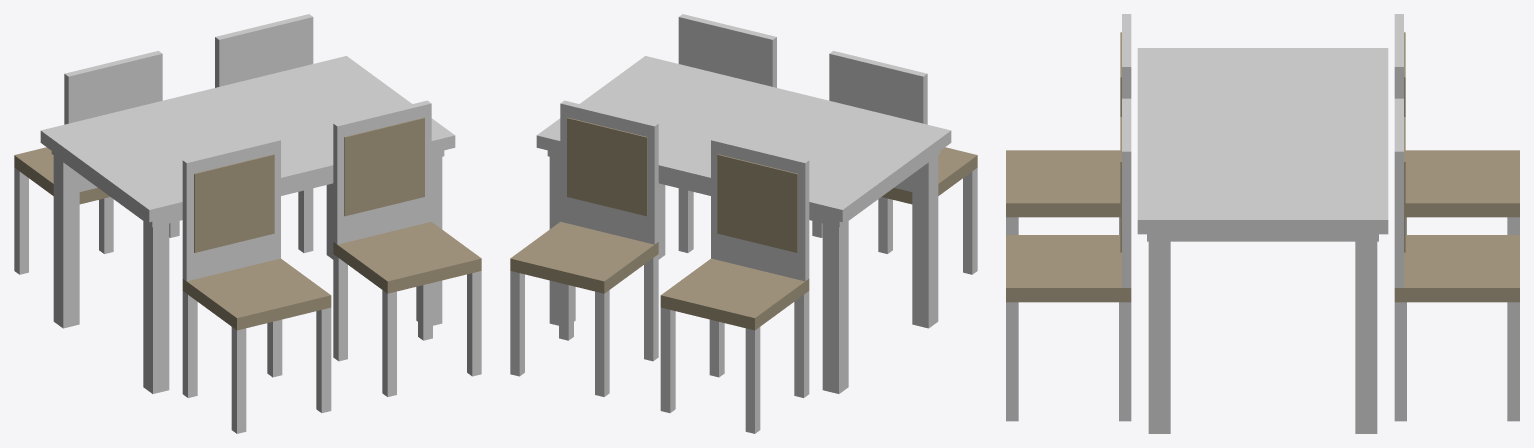
The model's file is dining.glb.
The picture shows the model from 3 angles, left to right: view 1: azimuth 30°, elevation 25°; view 2: azimuth 150°, elevation 25°; view 3: azimuth 270°, elevation 25°; orthographic projection. The views are drawn at different scales.
Parts seen in each view (by area): view 1: dining; view 2: dining; view 3: dining.
Part boxes in pixels (x1,y1,x2,y2): dining: [14, 14, 481, 433]; dining: [510, 14, 977, 433]; dining: [1006, 14, 1519, 433].
Size of the model in its own units: 1.49 by 1.09 by 1.89.
